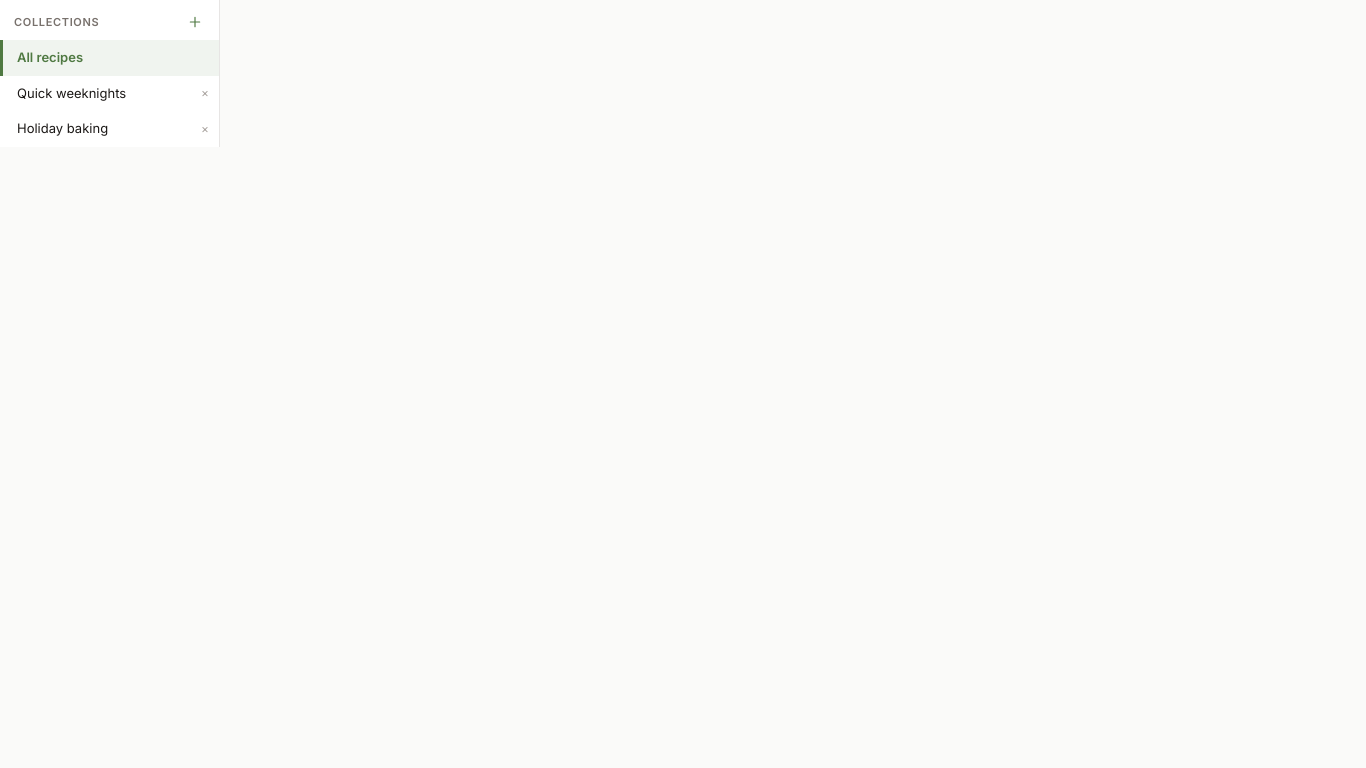
Scenario: CollectionSidebar › shows validation error when submitting empty name
Click the button with test id "new-collection-btn" at (195, 22), box [185,12,205,32]
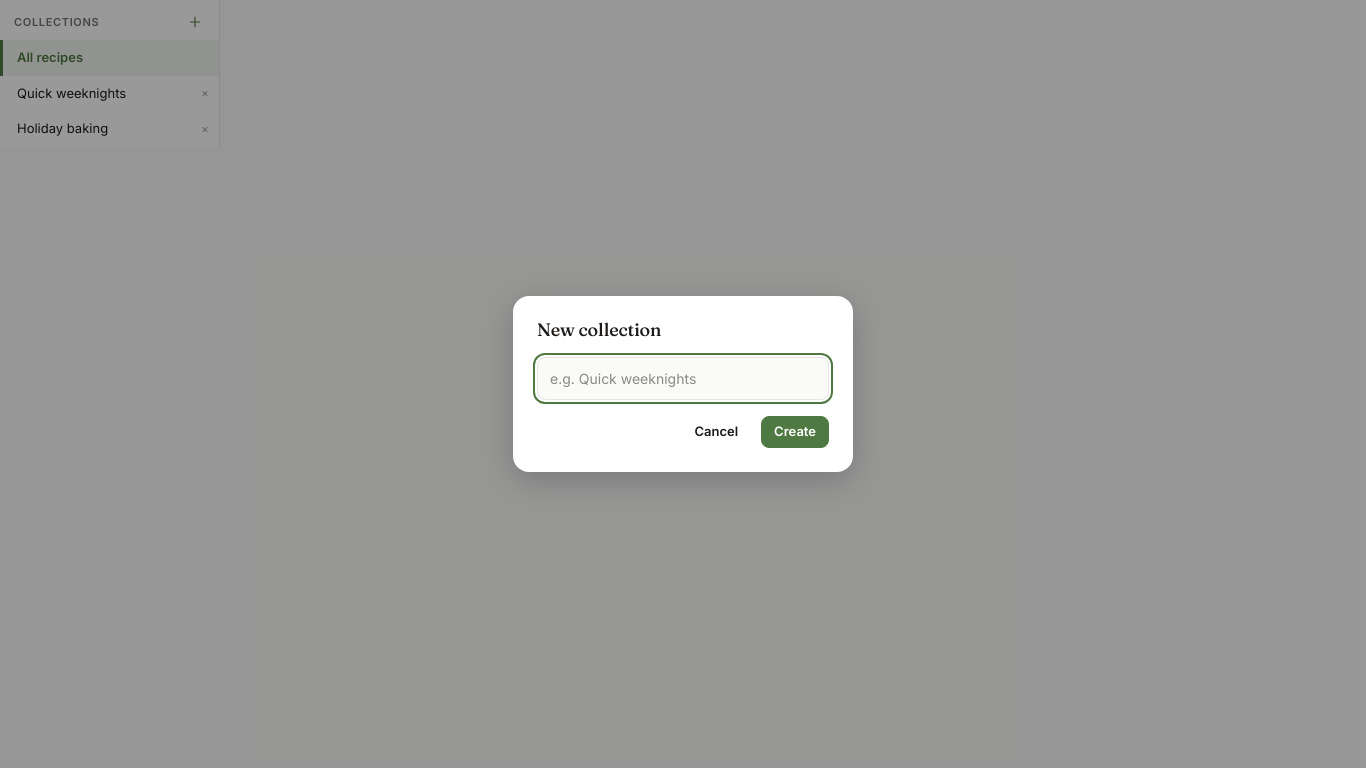
Click the button "Create" at (795, 432), box [761,416,829,448]
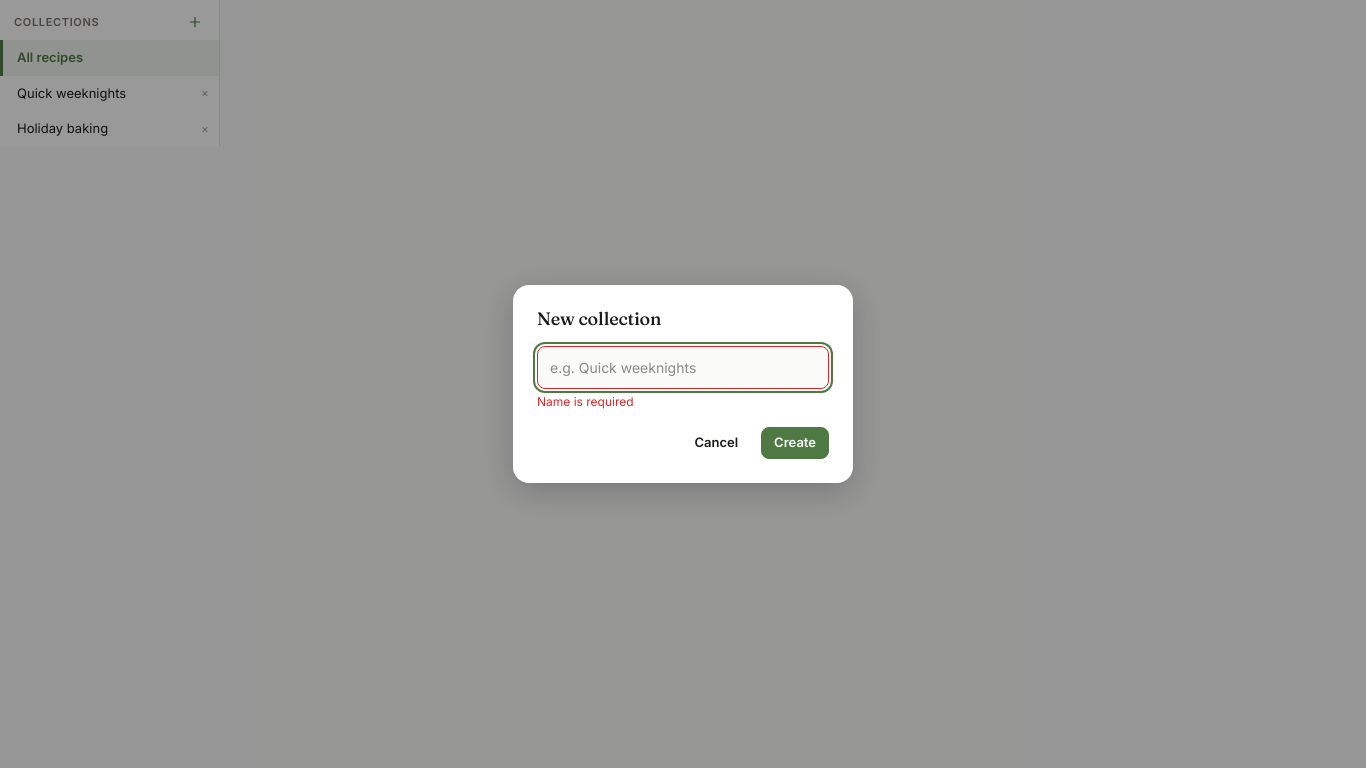
Now the text "Name is required" is shown, box [537,394,634,409]
